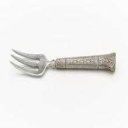fork: (7, 40, 125, 81)
